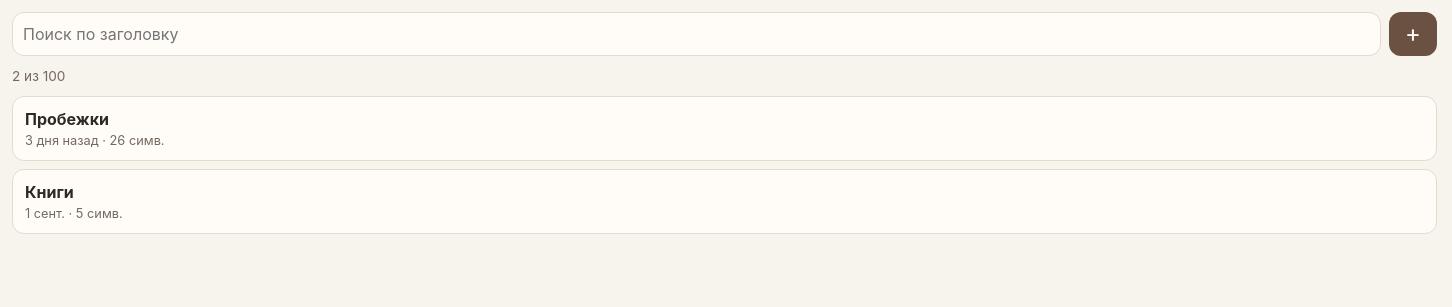
Test: NotesScreen › returns to the list with a notice when the note was deleted elsewhere
This screenshot has width=1452, height=307.
Click the button "Пробежки 3 дня назад · 26 симв.".
click(67, 119)  # box [12,96,1437,161]
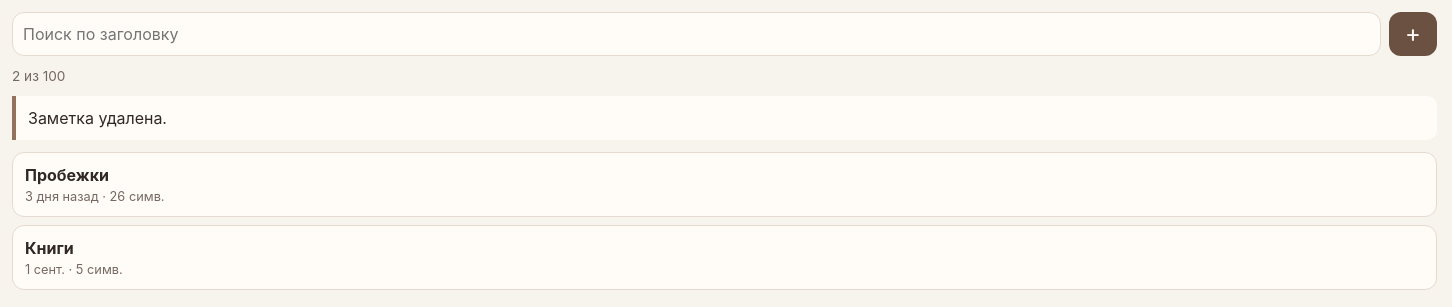
Expected: the text "Книги" is shown, [25,238,74,258]
Result: the text "Заметка удалена." is shown at [12,96,1437,140]
